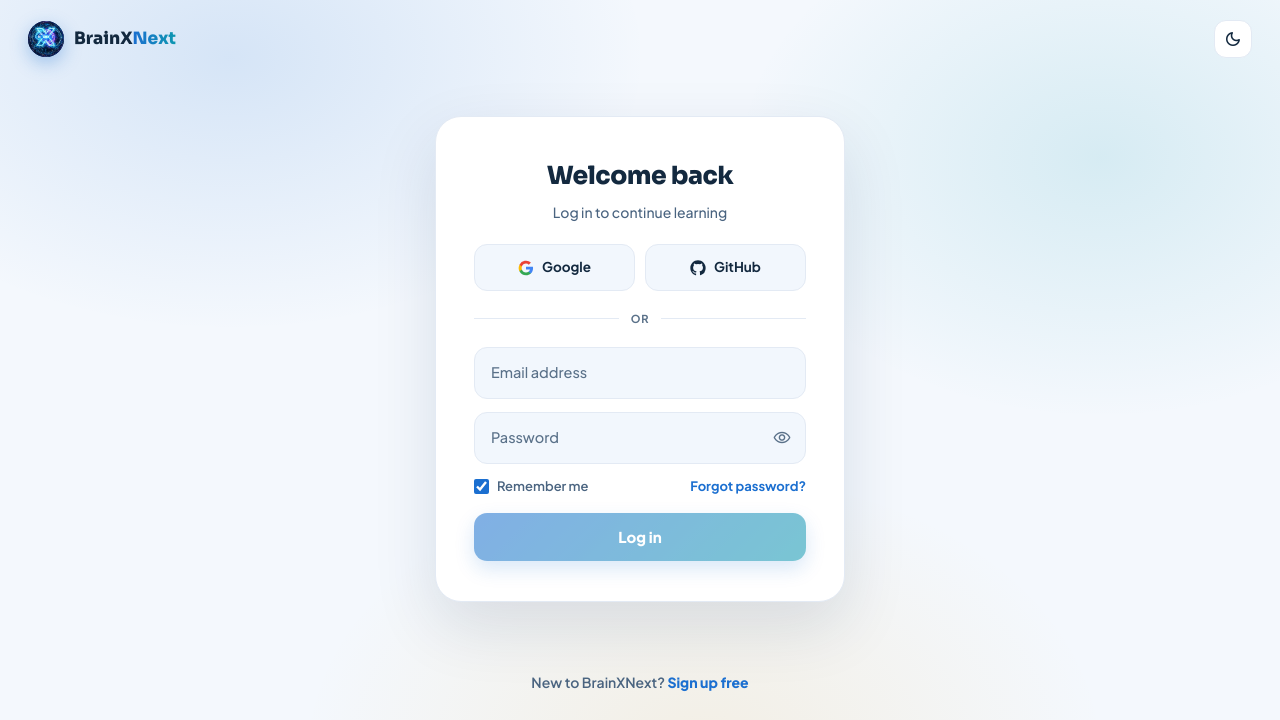
Test: <Login /> › shows validation messages for an empty submit
Click the button "Log in" at (640, 537), box x1=474 y1=513 x2=806 y2=561
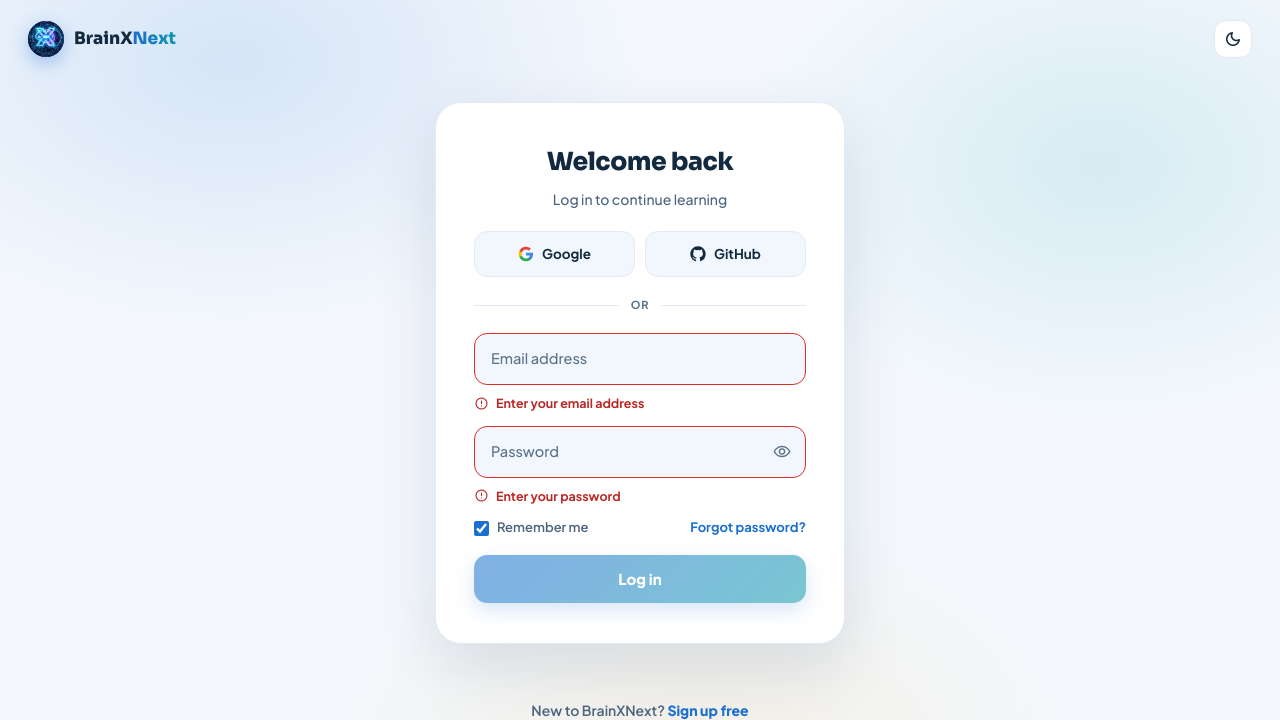
Result: the text "Enter your email address" is shown at x1=474 y1=394 x2=644 y2=413
Result: the text "Enter your password" is shown at x1=474 y1=486 x2=621 y2=505
